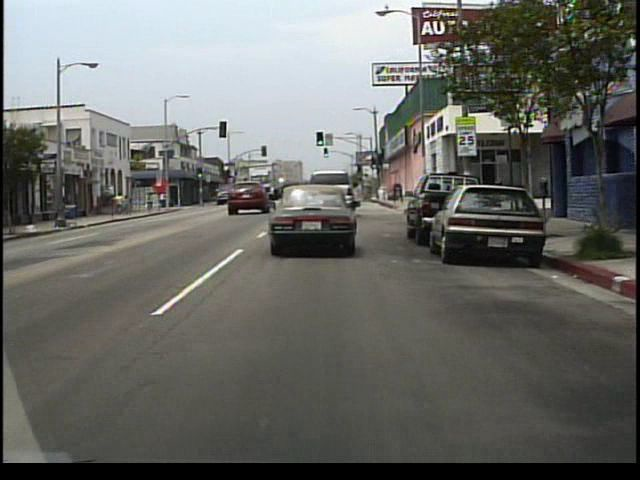person: (119, 193, 128, 217), (146, 191, 155, 211), (129, 195, 135, 216)
